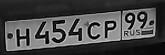license-plateSW: (5, 7, 157, 52)
